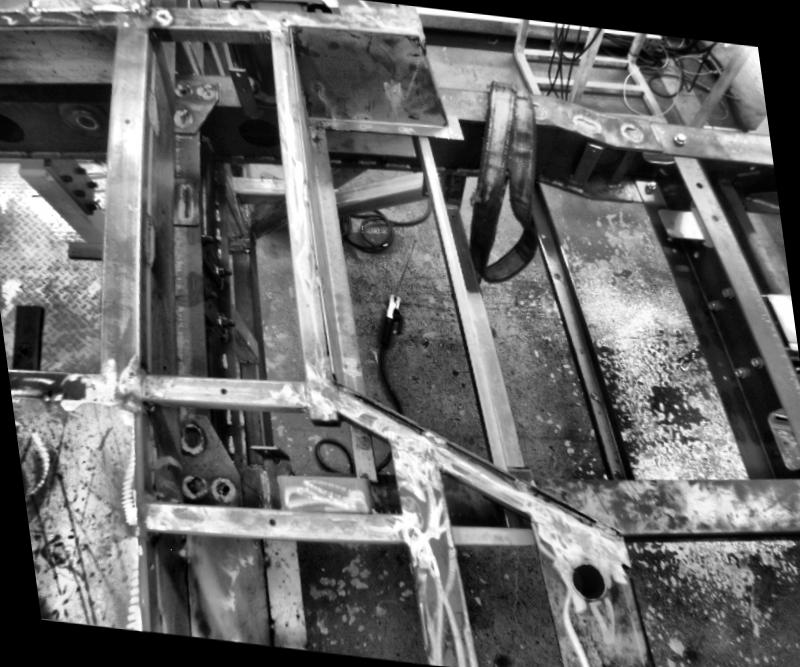bolt: (213, 264, 234, 280), (672, 128, 690, 146), (215, 314, 237, 328), (198, 231, 216, 248), (747, 352, 764, 369), (641, 178, 659, 192), (706, 298, 722, 312), (722, 286, 736, 300), (733, 366, 746, 378)
bracket: (244, 436, 306, 516), (650, 198, 708, 256), (6, 302, 48, 378), (760, 403, 799, 475), (224, 61, 266, 121), (58, 233, 106, 262)
hole: (568, 560, 610, 602), (215, 385, 229, 399), (17, 345, 31, 357), (264, 516, 277, 528), (590, 391, 600, 402), (220, 484, 230, 494), (552, 271, 562, 280), (612, 466, 621, 476), (695, 180, 704, 188), (722, 374, 730, 383), (538, 230, 546, 238), (712, 214, 720, 220), (716, 360, 722, 365), (234, 71, 240, 75), (451, 213, 454, 218), (124, 118, 128, 121)
